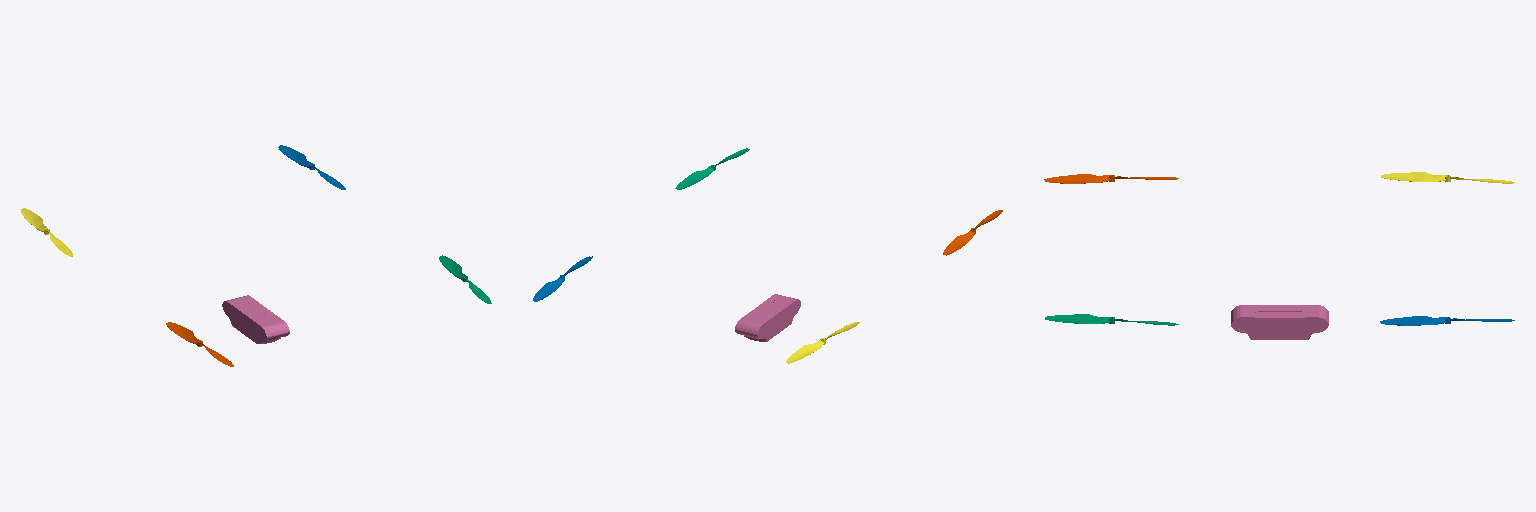
URDF robot description (quad_f450_camera):
<?xml version="1.0" ?>
<!-- =================================================================================== -->
<!-- |    This document was autogenerated by xacro from [local-path]/Firmware/Tools/sitl_gazebo/models/quad_f450_camera/urdf/quad_base.xacro | -->
<!-- |    EDITING THIS FILE BY HAND IS NOT RECOMMENDED                                 | -->
<!-- =================================================================================== -->
<robot name="quad_f450_camera" xmlns:xacro="http://ros.org/wiki/xacro">
  <!-- Properties that can be assigned at build time as arguments.
  Is there a reason not to make all properties arguments?
  -->
  <!-- The following causes segfault with multiple vehicles if defaults to true!!! -->
  <!-- macros for gazebo plugins, sensors -->
  <!-- Macro to add logging to a bag file. -->
  <!-- Macro to add a camera. -->
  <!-- Macro to add the controller interface. -->
  <!-- Macro to add the gps_plugin. -->
  <!-- Macro to add the magnetometer_plugin. -->
  <!-- Macro to add the barometer_plugin. -->
  <!-- Macro to add the mavlink interface. -->
  <!-- Macro to add the mavlink interface for a fixed-wing model. -->
  <!-- Macro to add the mavlink interface for a fixed-wing model. -->
  <!-- Macro to add an IMU. -->
  <!-- Macro to add a generic odometry sensor. -->
  <!-- Macro to add the wind plugin. -->
  <!-- VI sensor macros -->
  <!-- Macro to add a VI-sensor camera. -->
  <!-- Macro to add a depth camera on the VI-sensor. -->
  <!-- VI-Sensor Macro -->
  <!-- Instantiate iris "mechanics" -->
  <!-- Properties -->
  <!-- [kg] -->
  <!-- [m] -->
  <!-- [m] -->
  <!-- [kg] -->
  <!-- [m] -->
  <!-- [m] -->
  <!-- [m] -->
  <!-- [m] -->
  <!-- [m] -->
  <!-- [m] -->
  <!-- [kg.m/s^2] -->
  <!-- [m] -->
  <!-- [s] -->
  <!-- [s] -->
  <!-- [rad/s] -->
  <!-- Property Blocks -->
  <!-- inertia of a single rotor, assuming it is a cuboid. Height=3mm, width=15mm -->
  <!-- Included URDF Files -->
  <!-- Main multirotor link -->
  <!-- Rotor joint and link -->
  <!-- Instantiate multirotor_base_macro once -->
  <link name="base_link"/>
  <joint name="base_joint" type="fixed">
    <origin rpy="0 0 0" xyz="0 0 0"/>
    <parent link="base_link"/>
    <child link="base_link_inertia"/>
  </joint>
  <link name="base_link_inertia">
    <inertial>
      <mass value="1.65"/>
      <!-- [kg] -->
      <origin xyz="0 0 0"/>
      <inertia ixx="0.014959" ixy="0.0" ixz="0.0" iyy="0.022005" iyz="0.0" izz="0.028033"/>
    </inertial>
    <visual>
      <origin rpy="0 0 0" xyz="0 0 0"/>
      <geometry>
        <mesh filename="package://mavros_off_board/meshes/base_link.STL" scale="1 1 1"/>
        <!-- <box size="${body_width} ${body_width} ${body_height}"/> -->
        <!-- [m] [m] [m] -->
      </geometry>
    </visual>
    <collision>
      <origin rpy="0 0 0" xyz="0 0 -0.0385"/>
      <geometry>
        <box size="0.3585 0.3585 0.22"/>
        <!-- [m] [m] [m] -->
      </geometry>
    </collision>
  </link>
  <!-- attach multirotor_base_plugin to the base_link -->
  <gazebo>
    <plugin filename="libgazebo_multirotor_base_plugin.so" name="rosbag">
      <robotNamespace></robotNamespace>
      <linkName>base_link</linkName>
      <rotorVelocitySlowdownSim>10</rotorVelocitySlowdownSim>
    </plugin>
  </gazebo>
  <gazebo reference="base_link">
    <material>Gazebo/DarkGrey</material>
    <collision name="base_link_inertia_collision">
      <surface>
        <contact>
          <ode>
            <min_depth>0.001</min_depth>
            <max_vel>0.0</max_vel>
          </ode>
        </contact>
        <friction>
          <ode/>
        </friction>
      </surface>
    </collision>
  </gazebo>
  <!-- Instantiate rotors -->
  <joint name="rotor_0_joint" type="continuous">
    <origin rpy="0 0 -0.7854" xyz="0.1589 -0.15909 0.062676"/>
    <axis xyz="0 0 -1"/>
    <!-- TODO(ff): not currently set because it's not yet supported -->
    <!-- <limit effort="2000" velocity="${max_rot_velocity}" /> -->
    <parent link="base_link"/>
    <child link="rotor_0"/>
  </joint>
  <!-- TODO(ff): not currently set because it's not yet supported -->
  <!-- <gazebo reference="rotor_${motor_number}_joint"> <axis> <xyz>0 0 1</xyz>
      <limit> <velocity> ${max_rot_velocity} </velocity> </limit> </axis> </gazebo> -->
  <link name="rotor_0">
    <inertial>
      <mass value="0.01"/>
      <!-- [kg] -->
      <inertia ixx="8.5496e-07" ixy="7.1953e-07" ixz="-4.1012e-13" iyy="6.2836e-07" iyz="5.491e-13" izz="1.479e-06"/>
    </inertial>
    <visual>
      <geometry>
        <!-- <cylinder length="0.005" radius="${radius_rotor}"/> -->
        <!-- [m] -->
        <!-- <mesh filename="package://rotors_description/meshes/propeller_${direction}.dae" -->
        <mesh filename="package://mavros_off_board/meshes/propeller_1.STL" scale="1 1 1"/>
        <!-- <box size="${2*radius_rotor} 0.01 0.005"/> -->
      </geometry>
    </visual>
    <collision>
      <geometry>
        <cylinder length="0.005" radius="0.065"/>
        <!-- [m] -->
      </geometry>
    </collision>
  </link>
  <gazebo>
    <plugin filename="libgazebo_motor_model.so" name="front_right_motor_model">
      <robotNamespace></robotNamespace>
      <jointName>rotor_0_joint</jointName>
      <linkName>rotor_0</linkName>
      <turningDirection>ccw</turningDirection>
      <timeConstantUp>0.0125</timeConstantUp>
      <timeConstantDown>0.025</timeConstantDown>
      <maxRotVelocity>900</maxRotVelocity>
      <motorConstant>1.28627e-05</motorConstant>
      <momentConstant>0.017</momentConstant>
      <commandSubTopic>/gazebo/command/motor_speed</commandSubTopic>
      <motorNumber>0</motorNumber>
      <rotorDragCoefficient>0.000806428</rotorDragCoefficient>
      <rollingMomentCoefficient>1e-06</rollingMomentCoefficient>
      <motorSpeedPubTopic>/motor_speed/0</motorSpeedPubTopic>
      <rotorVelocitySlowdownSim>10</rotorVelocitySlowdownSim>
      <!--
        <gazebo_joint_control_pid>
          <p>0.1</p>
          <i>0</i>
          <d>0</d>
          <iMax>0</iMax>
          <iMin>0</iMin>
          <cmdMax>3</cmdMax>
          <cmdMin>-3</cmdMin>
        </gazebo_joint_control_pid>
      -->
    </plugin>
  </gazebo>
  <gazebo reference="rotor_0">
    <material>Gazebo/BlueTransparent</material>
  </gazebo>
  <joint name="rotor_1_joint" type="continuous">
    <origin rpy="0 0 -0.7854" xyz="-0.1589 0.15872 0.062676"/>
    <axis xyz="0 0 -1"/>
    <!-- TODO(ff): not currently set because it's not yet supported -->
    <!-- <limit effort="2000" velocity="${max_rot_velocity}" /> -->
    <parent link="base_link"/>
    <child link="rotor_1"/>
  </joint>
  <!-- TODO(ff): not currently set because it's not yet supported -->
  <!-- <gazebo reference="rotor_${motor_number}_joint"> <axis> <xyz>0 0 1</xyz>
      <limit> <velocity> ${max_rot_velocity} </velocity> </limit> </axis> </gazebo> -->
  <link name="rotor_1">
    <inertial>
      <mass value="0.01"/>
      <!-- [kg] -->
      <inertia ixx="8.5496e-07" ixy="7.1953e-07" ixz="-4.184e-13" iyy="6.2836e-07" iyz="5.3609e-13" izz="1.479e-06"/>
    </inertial>
    <visual>
      <geometry>
        <!-- <cylinder length="0.005" radius="${radius_rotor}"/> -->
        <!-- [m] -->
        <!-- <mesh filename="package://rotors_description/meshes/propeller_${direction}.dae" -->
        <mesh filename="package://mavros_off_board/meshes/propeller_1.STL" scale="1 1 1"/>
        <!-- <box size="${2*radius_rotor} 0.01 0.005"/> -->
      </geometry>
    </visual>
    <collision>
      <geometry>
        <cylinder length="0.005" radius="0.065"/>
        <!-- [m] -->
      </geometry>
    </collision>
  </link>
  <gazebo>
    <plugin filename="libgazebo_motor_model.so" name="back_left_motor_model">
      <robotNamespace></robotNamespace>
      <jointName>rotor_1_joint</jointName>
      <linkName>rotor_1</linkName>
      <turningDirection>ccw</turningDirection>
      <timeConstantUp>0.0125</timeConstantUp>
      <timeConstantDown>0.025</timeConstantDown>
      <maxRotVelocity>900</maxRotVelocity>
      <motorConstant>1.28627e-05</motorConstant>
      <momentConstant>0.017</momentConstant>
      <commandSubTopic>/gazebo/command/motor_speed</commandSubTopic>
      <motorNumber>1</motorNumber>
      <rotorDragCoefficient>0.000806428</rotorDragCoefficient>
      <rollingMomentCoefficient>1e-06</rollingMomentCoefficient>
      <motorSpeedPubTopic>/motor_speed/1</motorSpeedPubTopic>
      <rotorVelocitySlowdownSim>10</rotorVelocitySlowdownSim>
      <!--
        <gazebo_joint_control_pid>
          <p>0.1</p>
          <i>0</i>
          <d>0</d>
          <iMax>0</iMax>
          <iMin>0</iMin>
          <cmdMax>3</cmdMax>
          <cmdMin>-3</cmdMin>
        </gazebo_joint_control_pid>
      -->
    </plugin>
  </gazebo>
  <gazebo reference="rotor_1">
    <material>Gazebo/BlueTransparent</material>
  </gazebo>
  <joint name="rotor_2_joint" type="continuous">
    <origin rpy="0 0 0.7854" xyz="0.15891 0.15872 0.062676"/>
    <axis xyz="0 0 -1"/>
    <!-- TODO(ff): not currently set because it's not yet supported -->
    <!-- <limit effort="2000" velocity="${max_rot_velocity}" /> -->
    <parent link="base_link"/>
    <child link="rotor_2"/>
  </joint>
  <!-- TODO(ff): not currently set because it's not yet supported -->
  <!-- <gazebo reference="rotor_${motor_number}_joint"> <axis> <xyz>0 0 1</xyz>
      <limit> <velocity> ${max_rot_velocity} </velocity> </limit> </axis> </gazebo> -->
  <link name="rotor_2">
    <inertial>
      <mass value="0.01"/>
      <!-- [kg] -->
      <inertia ixx="8.4464e-07" ixy="-7.2191e-07" ixz="5.3515e-13" iyy="6.4014e-07" iyz="5.5137e-13" izz="1.4805e-06"/>
    </inertial>
    <visual>
      <geometry>
        <!-- <cylinder length="0.005" radius="${radius_rotor}"/> -->
        <!-- [m] -->
        <!-- <mesh filename="package://rotors_description/meshes/propeller_${direction}.dae" -->
        <mesh filename="package://mavros_off_board/meshes/propeller_0.STL" scale="1 1 1"/>
        <!-- <box size="${2*radius_rotor} 0.01 0.005"/> -->
      </geometry>
    </visual>
    <collision>
      <geometry>
        <cylinder length="0.005" radius="0.065"/>
        <!-- [m] -->
      </geometry>
    </collision>
  </link>
  <gazebo>
    <plugin filename="libgazebo_motor_model.so" name="front_left_motor_model">
      <robotNamespace></robotNamespace>
      <jointName>rotor_2_joint</jointName>
      <linkName>rotor_2</linkName>
      <turningDirection>cw</turningDirection>
      <timeConstantUp>0.0125</timeConstantUp>
      <timeConstantDown>0.025</timeConstantDown>
      <maxRotVelocity>900</maxRotVelocity>
      <motorConstant>1.28627e-05</motorConstant>
      <momentConstant>0.017</momentConstant>
      <commandSubTopic>/gazebo/command/motor_speed</commandSubTopic>
      <motorNumber>2</motorNumber>
      <rotorDragCoefficient>0.000806428</rotorDragCoefficient>
      <rollingMomentCoefficient>1e-06</rollingMomentCoefficient>
      <motorSpeedPubTopic>/motor_speed/2</motorSpeedPubTopic>
      <rotorVelocitySlowdownSim>10</rotorVelocitySlowdownSim>
      <!--
        <gazebo_joint_control_pid>
          <p>0.1</p>
          <i>0</i>
          <d>0</d>
          <iMax>0</iMax>
          <iMin>0</iMin>
          <cmdMax>3</cmdMax>
          <cmdMin>-3</cmdMin>
        </gazebo_joint_control_pid>
      -->
    </plugin>
  </gazebo>
  <gazebo reference="rotor_2">
    <material>Gazebo/BlueTransparent</material>
  </gazebo>
  <joint name="rotor_3_joint" type="continuous">
    <origin rpy="0 0 0.7854" xyz="-0.15891 -0.15909 0.062676"/>
    <axis xyz="0 0 -1"/>
    <!-- TODO(ff): not currently set because it's not yet supported -->
    <!-- <limit effort="2000" velocity="${max_rot_velocity}" /> -->
    <parent link="base_link"/>
    <child link="rotor_3"/>
  </joint>
  <!-- TODO(ff): not currently set because it's not yet supported -->
  <!-- <gazebo reference="rotor_${motor_number}_joint"> <axis> <xyz>0 0 1</xyz>
      <limit> <velocity> ${max_rot_velocity} </velocity> </limit> </axis> </gazebo> -->
  <link name="rotor_3">
    <inertial>
      <mass value="0.01"/>
      <!-- [kg] -->
      <inertia ixx="8.4464e-07" ixy="-7.2191e-07" ixz="4.5077e-13" iyy="6.4014e-07" iyz="4.5674e-13" izz="1.4805e-06"/>
    </inertial>
    <visual>
      <geometry>
        <!-- <cylinder length="0.005" radius="${radius_rotor}"/> -->
        <!-- [m] -->
        <!-- <mesh filename="package://rotors_description/meshes/propeller_${direction}.dae" -->
        <mesh filename="package://mavros_off_board/meshes/propeller_0.STL" scale="1 1 1"/>
        <!-- <box size="${2*radius_rotor} 0.01 0.005"/> -->
      </geometry>
    </visual>
    <collision>
      <geometry>
        <cylinder length="0.005" radius="0.065"/>
        <!-- [m] -->
      </geometry>
    </collision>
  </link>
  <gazebo>
    <plugin filename="libgazebo_motor_model.so" name="back_right_motor_model">
      <robotNamespace></robotNamespace>
      <jointName>rotor_3_joint</jointName>
      <linkName>rotor_3</linkName>
      <turningDirection>cw</turningDirection>
      <timeConstantUp>0.0125</timeConstantUp>
      <timeConstantDown>0.025</timeConstantDown>
      <maxRotVelocity>900</maxRotVelocity>
      <motorConstant>1.28627e-05</motorConstant>
      <momentConstant>0.017</momentConstant>
      <commandSubTopic>/gazebo/command/motor_speed</commandSubTopic>
      <motorNumber>3</motorNumber>
      <rotorDragCoefficient>0.000806428</rotorDragCoefficient>
      <rollingMomentCoefficient>1e-06</rollingMomentCoefficient>
      <motorSpeedPubTopic>/motor_speed/3</motorSpeedPubTopic>
      <rotorVelocitySlowdownSim>10</rotorVelocitySlowdownSim>
      <!--
        <gazebo_joint_control_pid>
          <p>0.1</p>
          <i>0</i>
          <d>0</d>
          <iMax>0</iMax>
          <iMin>0</iMin>
          <cmdMax>3</cmdMax>
          <cmdMin>-3</cmdMin>
        </gazebo_joint_control_pid>
      -->
    </plugin>
  </gazebo>
  <gazebo reference="rotor_3">
    <material>Gazebo/BlueTransparent</material>
  </gazebo>
  <!-- Instantiate gps plugin. -->
  <gazebo>
    <plugin filename="libgazebo_gps_plugin.so" name="gps_plugin">
      <robotNamespace></robotNamespace>
      <gpsNoise>true</gpsNoise>
    </plugin>
  </gazebo>
  <!-- Instantiate magnetometer plugin. -->
  <gazebo>
    <plugin filename="libgazebo_magnetometer_plugin.so" name="magnetometer_plugin">
      <robotNamespace></robotNamespace>
      <pubRate>50</pubRate>
      <noiseDensity>0.0004</noiseDensity>
      <randomWalk>6.4e-06</randomWalk>
      <biasCorrelationTime>600</biasCorrelationTime>
      <magTopic>/mag</magTopic>
    </plugin>
  </gazebo>
  <!-- Instantiate barometer plugin. -->
  <gazebo>
    <plugin filename="libgazebo_barometer_plugin.so" name="barometer_plugin">
      <robotNamespace></robotNamespace>
      <pubRate>50</pubRate>
      <baroTopic>/baro</baroTopic>
    </plugin>
  </gazebo>
  <!-- Instantiate mavlink telemetry interface. -->
  <gazebo>
    <plugin filename="libgazebo_mavlink_interface.so" name="mavlink_interface">
      <robotNamespace></robotNamespace>
      <imuSubTopic>/imu</imuSubTopic>
      <gpsSubTopic>/gps</gpsSubTopic>
      <magSubTopic>/mag</magSubTopic>
      <baroSubTopic>/baro</baroSubTopic>
      <mavlink_addr>INADDR_ANY</mavlink_addr>
      <mavlink_udp_port>14560</mavlink_udp_port>
      <mavlink_tcp_port>4560</mavlink_tcp_port>
      <serialEnabled>false</serialEnabled>
      <serialDevice>/dev/ttyACM0</serialDevice>
      <baudRate>921600</baudRate>
      <qgc_addr>INADDR_ANY</qgc_addr>
      <qgc_udp_port>14550</qgc_udp_port>
      <sdk_addr>INADDR_ANY</sdk_addr>
      <sdk_udp_port>14540</sdk_udp_port>
      <hil_mode>false</hil_mode>
      <hil_state_level>false</hil_state_level>
      <vehicle_is_tailsitter>false</vehicle_is_tailsitter>
      <send_vision_estimation>true</send_vision_estimation>
      <send_odometry>false</send_odometry>
      <enable_lockstep>true</enable_lockstep>
      <use_tcp>true</use_tcp>
      <motorSpeedCommandPubTopic>/gazebo/command/motor_speed</motorSpeedCommandPubTopic>
      <control_channels>
        <channel name="rotor1">
          <input_index>0</input_index>
          <input_offset>0</input_offset>
          <input_scaling>900</input_scaling>
          <zero_position_disarmed>0</zero_position_disarmed>
          <zero_position_armed>100</zero_position_armed>
          <joint_control_type>velocity</joint_control_type>
        </channel>
        <channel name="rotor2">
          <input_index>1</input_index>
          <input_offset>0</input_offset>
          <input_scaling>900</input_scaling>
          <zero_position_disarmed>0</zero_position_disarmed>
          <zero_position_armed>100</zero_position_armed>
          <joint_control_type>velocity</joint_control_type>
        </channel>
        <channel name="rotor3">
          <input_index>2</input_index>
          <input_offset>0</input_offset>
          <input_scaling>900</input_scaling>
          <zero_position_disarmed>0</zero_position_disarmed>
          <zero_position_armed>100</zero_position_armed>
          <joint_control_type>velocity</joint_control_type>
        </channel>
        <channel name="rotor4">
          <input_index>3</input_index>
          <input_offset>0</input_offset>
          <input_scaling>900</input_scaling>
          <zero_position_disarmed>0</zero_position_disarmed>
          <zero_position_armed>100</zero_position_armed>
          <joint_control_type>velocity</joint_control_type>
        </channel>
      </control_channels>
    </plugin>
  </gazebo>
  <link name="/camera_quad_f450_link">
    <collision>
      <origin rpy="0 0 0" xyz="0 0 0"/>
      <geometry>
        <box size="0.023813 0.027686 0.092682"/>
      </geometry>
    </collision>
    <visual>
      <origin rpy="0 0 0" xyz="0 0 0"/>
      <geometry>
        <mesh filename="package://mavros_off_board/meshes/cam_link.STL"/>
      </geometry>
      <material name="red"/>
    </visual>
    <inertial>
      <mass value="0.050075"/>
      <origin rpy="0 0 0" xyz="-0.0013668 -1.5197e-5 0.00025326"/>
      <inertia ixx="3.2061e-05" ixy="-1.169e-08" ixz="-4.2601e-10" iyy="3.0815e-05" iyz="5.2182e-10" izz="5.1652e-06"/>
    </inertial>
  </link>
  <joint name="/camera_quad_f450_joint" type="fixed">
    <origin rpy="1.5708 1.5708 0" xyz="0 0 -0.013633"/>
    <parent link="base_link"/>
    <child link="/camera_quad_f450_link"/>
  </joint>
  <gazebo reference="/camera_quad_f450_link">
    <sensor name="_camera_quad_f450" type="camera">
      <update_rate>30.0</update_rate>
      <visualize>true</visualize>
      <always_on>1</always_on>
      <camera name="head">
        <pose>0 0 0 -1.5708 0 0</pose>
        <horizontal_fov>2.0</horizontal_fov>
        <image>
          <width>640</width>
          <height>480</height>
          <format>R8G8B8</format>
        </image>
        <clip>
          <near>0.05</near>
          <far>15000</far>
        </clip>
        <noise>
          <type>gaussian</type>
          <!-- Noise is sampled independently per pixel on each frame.
                 That pixel's noise value is added to each of its color
                 channels, which at that point lie in the range [0,1]. -->
          <mean>0.0</mean>
          <stddev>0.007</stddev>
        </noise>
      </camera>
      <plugin filename="libgazebo_ros_camera.so" name="_camera_quad_f450_controller">
        <robotNamespace></robotNamespace>
        <alwaysOn>true</alwaysOn>
        <updateRate>30.0</updateRate>
        <cameraName>camera_quad_f450</cameraName>
        <imageTopicName>image_raw</imageTopicName>
        <cameraInfoTopicName>camera_info</cameraInfoTopicName>
        <frameName>camera_quad_f450_link</frameName>
        <hackBaseline>0.0</hackBaseline>
        <distortionK1>0.0</distortionK1>
        <distortionK2>0.0</distortionK2>
        <distortionK3>0.0</distortionK3>
        <distortionT1>0.0</distortionT1>
        <distortionT2>0.0</distortionT2>
      </plugin>
    </sensor>
    <material>Gazebo/DarkGrey</material>
  </gazebo>
  <!-- Mount an ADIS16448 IMU. -->
  <!-- IMU link -->
  <link name="/imu_link">
    <inertial>
      <inertia ixx="0.00001" ixy="0.0" ixz="0.0" iyy="0.00001" iyz="0.0" izz="0.00001"/>
      <mass value="0.015"/>
      <!-- [kg] -->
      <origin rpy="0 0 0" xyz="0 0 0"/>
    </inertial>
  </link>
  <!-- IMU joint -->
  <joint name="/imu_joint" type="revolute">
    <origin rpy="0 0 0" xyz="0 0 0"/>
    <parent link="base_link"/>
    <child link="/imu_link"/>
    <limit effort="0" lower="0" upper="0" velocity="0"/>
  </joint>
  <gazebo>
    <plugin filename="libgazebo_imu_plugin.so" name="rotors_gazebo_imu_plugin">
      <!-- A good description of the IMU parameters can be found in the kalibr documentation:
           https://github.com/ethz-asl/kalibr/wiki/IMU-Noise-Model-and-Intrinsics -->
      <robotNamespace></robotNamespace>
      <!-- (string, required): ros namespace in which the messages are published -->
      <linkName>/imu_link</linkName>
      <!-- (string, required): name of the body which holds the IMU sensor -->
      <imuTopic>/imu</imuTopic>
      <!-- (string): name of the sensor output topic and prefix of service names (defaults to imu) -->
      <gyroscopeNoiseDensity>0.00018665</gyroscopeNoiseDensity>
      <!-- Gyroscope noise density (two-sided spectrum) [rad/s/sqrt(Hz)] -->
      <gyroscopeRandomWalk>3.8785e-05</gyroscopeRandomWalk>
      <!-- Gyroscope bias random walk [rad/s/s/sqrt(Hz)] -->
      <gyroscopeBiasCorrelationTime>1000.0</gyroscopeBiasCorrelationTime>
      <!-- Gyroscope bias correlation time constant [s] -->
      <gyroscopeTurnOnBiasSigma>0.0087</gyroscopeTurnOnBiasSigma>
      <!-- Gyroscope turn on bias standard deviation [rad/s] -->
      <accelerometerNoiseDensity>0.00186</accelerometerNoiseDensity>
      <!-- Accelerometer noise density (two-sided spectrum) [m/s^2/sqrt(Hz)] -->
      <accelerometerRandomWalk>0.006</accelerometerRandomWalk>
      <!-- Accelerometer bias random walk. [m/s^2/s/sqrt(Hz)] -->
      <accelerometerBiasCorrelationTime>300.0</accelerometerBiasCorrelationTime>
      <!-- Accelerometer bias correlation time constant [s] -->
      <accelerometerTurnOnBiasSigma>0.196</accelerometerTurnOnBiasSigma>
      <!-- Accelerometer turn on bias standard deviation [m/s^2] -->
    </plugin>
  </gazebo>
</robot>

--- What the picture shows (computed from the rendered views, not written in the file) ---
The picture shows the robot from 3 angles, left to right: view 1: azimuth 30°, elevation 25°; view 2: azimuth 150°, elevation 25°; view 3: azimuth 270°, elevation 25°; orthographic projection.
Robot: quad_f450_camera — 8 links, 7 joints (1 revolute, 4 continuous, 2 fixed); root link base_link; default pose: all joints at 0.
Links seen in each view (by area): view 1: /camera_quad_f450_link; view 2: /camera_quad_f450_link; view 3: /camera_quad_f450_link, rotor_2, rotor_3, rotor_1, rotor_0.
Boxes of the visible links, <box> form: /camera_quad_f450_link: <box>222,295,289,343</box>; /camera_quad_f450_link: <box>735,294,800,341</box>; /camera_quad_f450_link: <box>1231,305,1328,339</box>; rotor_2: <box>1380,316,1514,325</box>; rotor_3: <box>1044,174,1178,183</box>; rotor_1: <box>1381,172,1514,183</box>; rotor_0: <box>1045,314,1178,325</box>.
Size in the robot's own frame: 0.3408 by 0.4457 by 0.0909 metres.
5 mesh visuals loaded from 4 distinct referenced files (3 binary STL); not drawn: 1 (reference not matched to a file when rendering).
